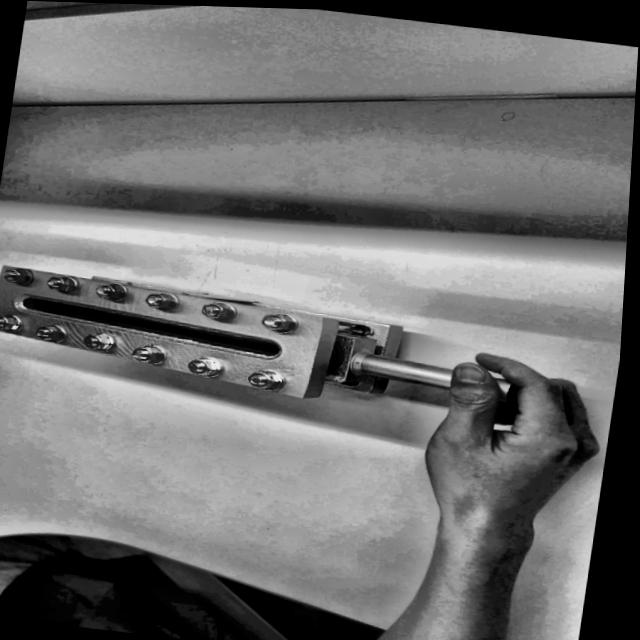ShuiWeiQi_12: (0, 246, 465, 423)
